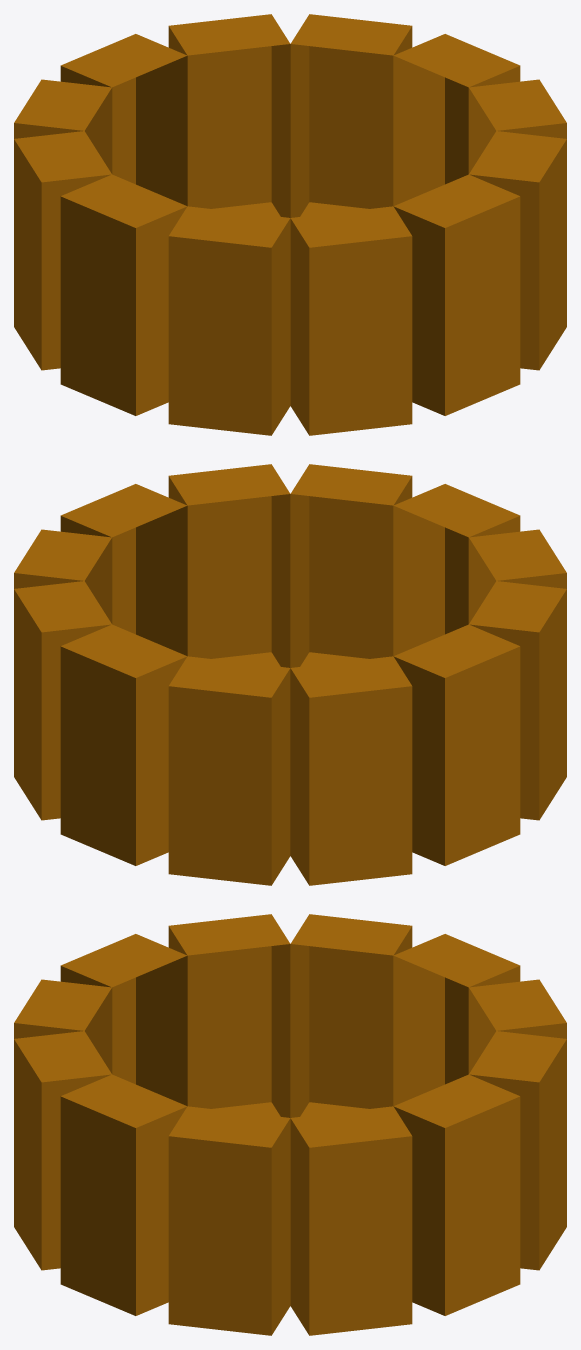
File: TowerGearA.fbx
3 views of the same model, one above another, from view 1: azimuth 30°, elevation 25°; view 2: azimuth 150°, elevation 25°; view 3: azimuth 270°, elevation 25° (orthographic).
Visible parts, largest first — view 1: TowerGearA; view 2: TowerGearA; view 3: TowerGearA.
Part boxes in pixels (<box>): TowerGearA: <box>14,14,566,435</box>; TowerGearA: <box>14,464,566,885</box>; TowerGearA: <box>14,914,566,1335</box>.
Bounding box in the file's own units: 122 × 45.59 × 122.
